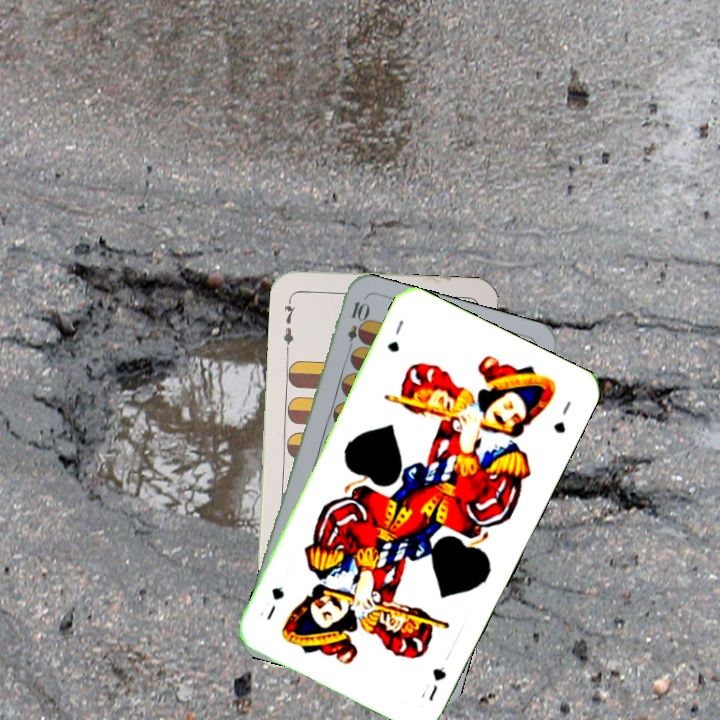E10: (343, 297, 369, 356)
E7: (279, 293, 298, 352)
GU: (416, 662, 449, 704), (383, 315, 407, 355)
